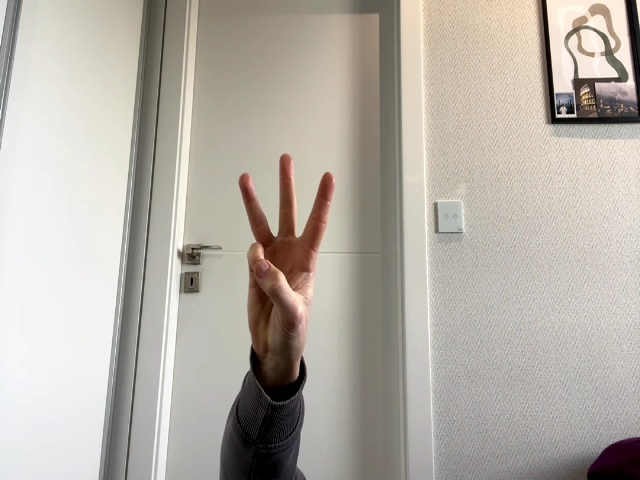W: (239, 153, 335, 346)
